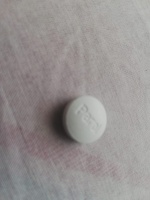Parol: (59, 92, 109, 146)
